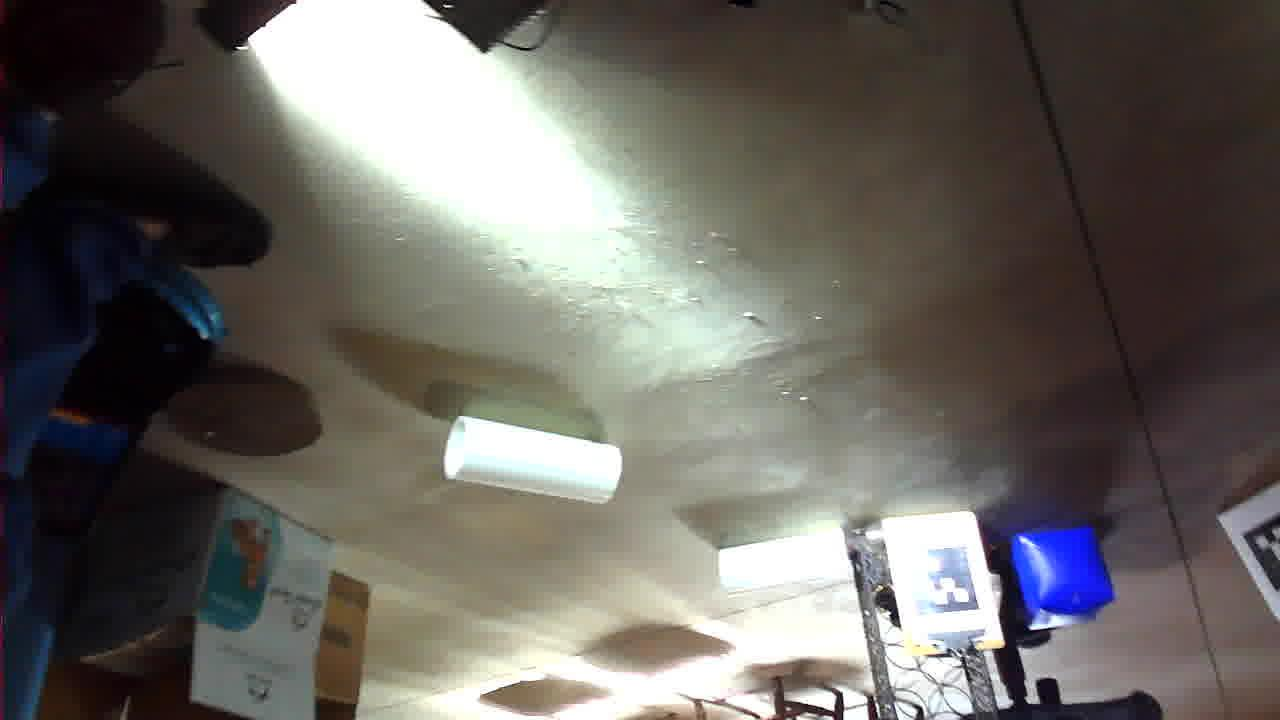coral: (660, 215, 836, 304), (433, 129, 562, 192)
